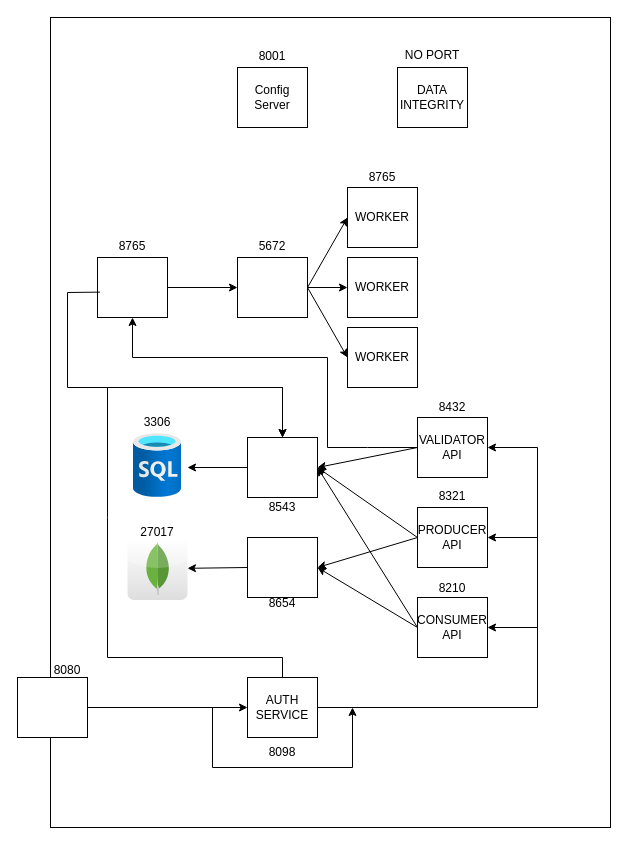
The diagram is 628 pixels wide and 845 high, and some of its shapes have lost their labels. Each missing label, with the centre of its shape:
GATEWAY: (x=52, y=707)
MONGO DATA: (x=282, y=567)
PROCESS SERVICE: (x=132, y=287)
RABBIT: (x=272, y=287)
SQL DATA: (x=282, y=467)
